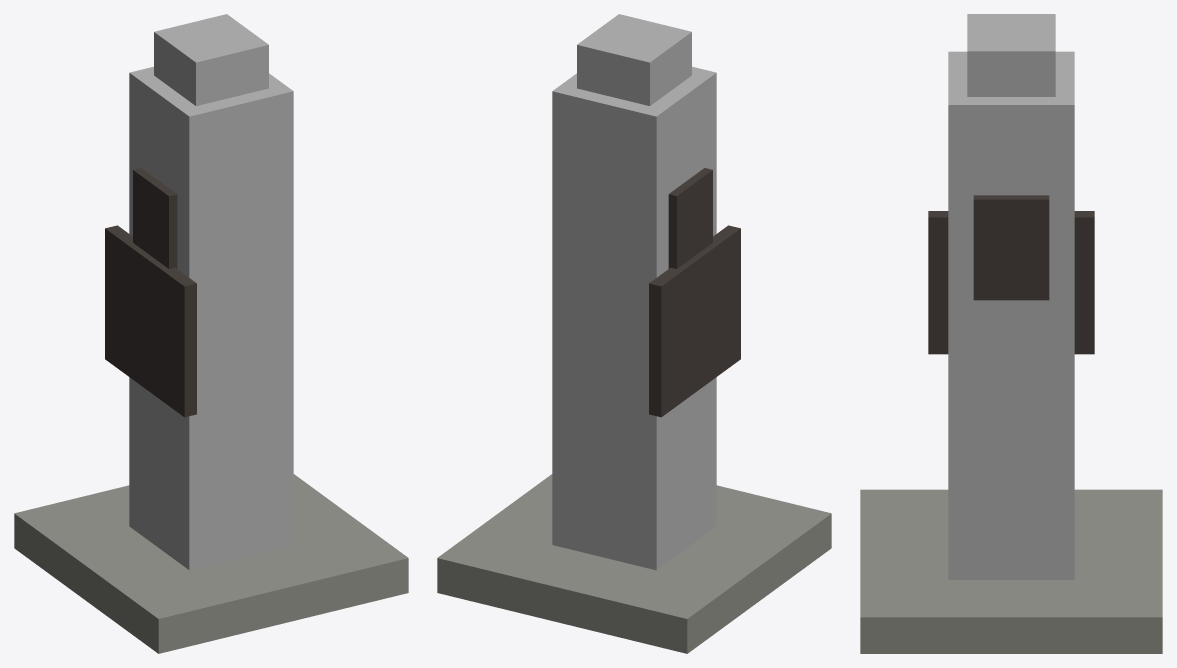
Rendered from SM_poste_km_v4_LOD0.fbx.
The picture shows the model from 3 angles, left to right: view 1: azimuth 30°, elevation 25°; view 2: azimuth 150°, elevation 25°; view 3: azimuth 270°, elevation 25°; orthographic projection. The views are drawn at different scales.
Visible parts, largest first — view 1: SM_bloques.poste_km_v4_LOD0; view 2: SM_bloques.poste_km_v4_LOD0; view 3: SM_bloques.poste_km_v4_LOD0.
Part boxes in pixels (box(x1,y1,x2,y2)): SM_bloques.poste_km_v4_LOD0: box(14, 14, 408, 653); SM_bloques.poste_km_v4_LOD0: box(437, 14, 831, 653); SM_bloques.poste_km_v4_LOD0: box(860, 14, 1162, 653).
Bounding box in the file's own units: 0.6 × 1.22 × 0.6.
